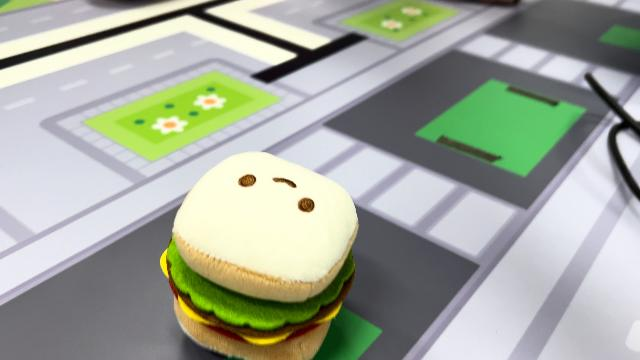sandwich: (158, 148, 362, 358)
